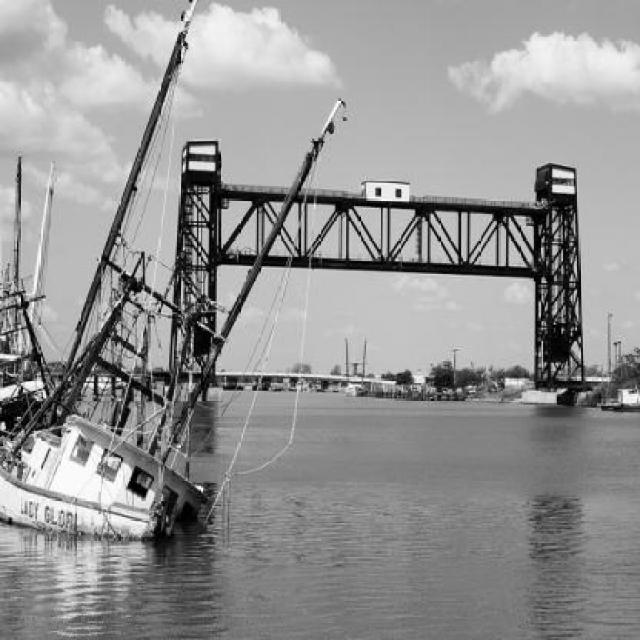ship: (1, 25, 244, 569)
